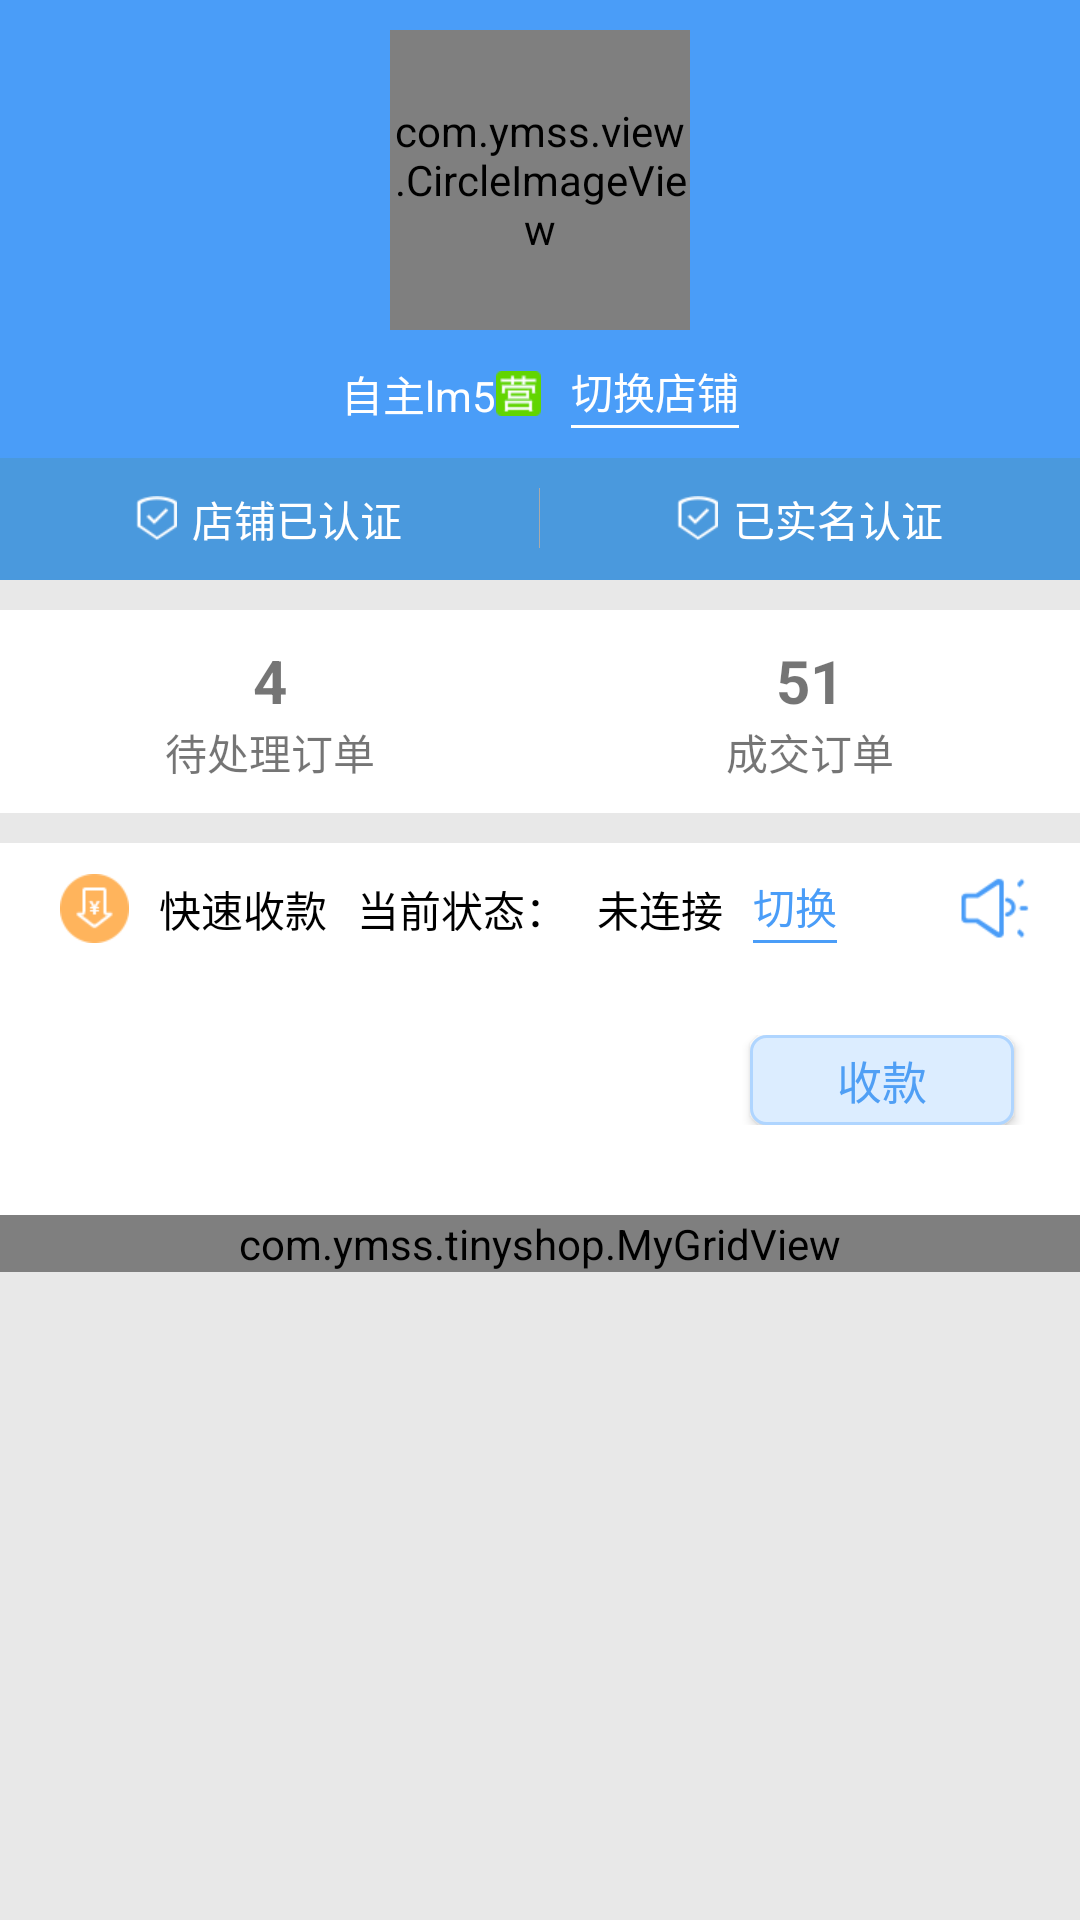

Screen size 1080px×1920px. Icon name, then its box in pixels as (x1, y1, x2, y2):
attestation: (137, 496, 177, 540), (678, 496, 718, 540)
collection: (60, 874, 129, 943)
sound open: (961, 878, 1028, 938)
